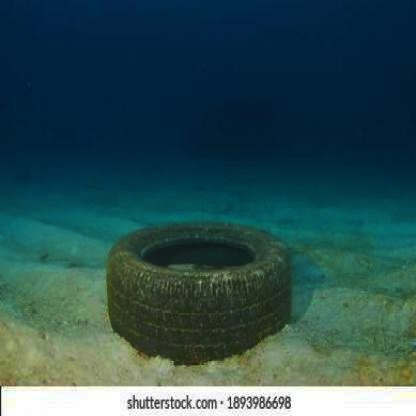tire: (98, 214, 296, 359)
